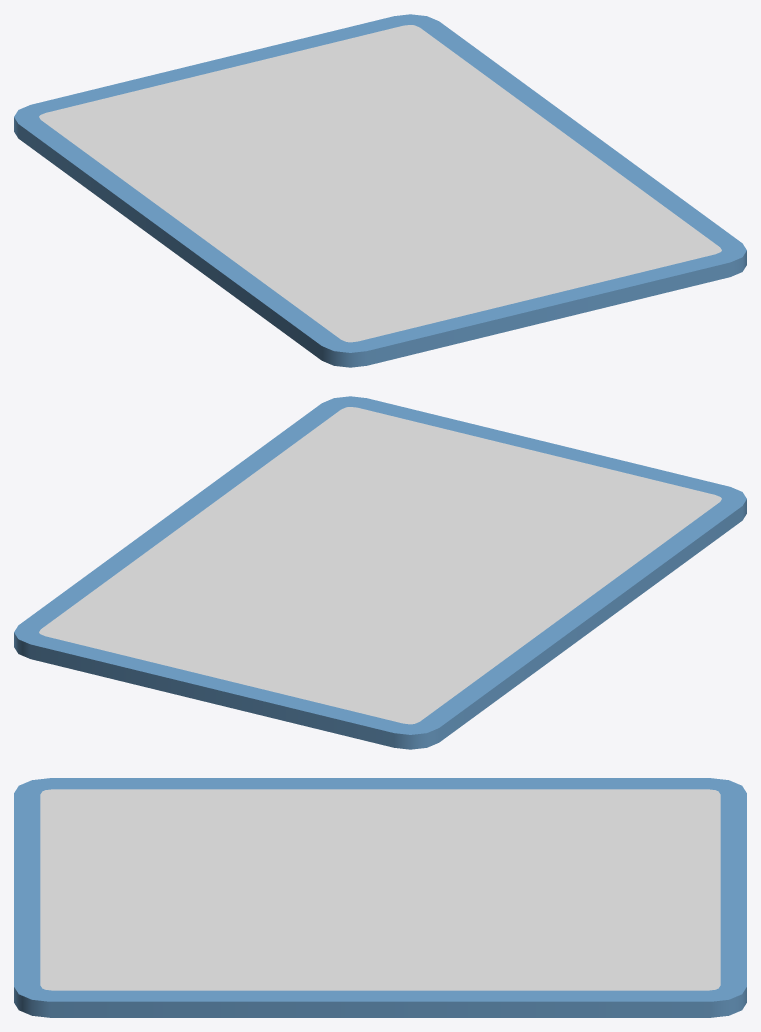
File: tablet.fbx
3 renders of one model, top to bottom at view 1: azimuth 30°, elevation 25°; view 2: azimuth 150°, elevation 25°; view 3: azimuth 270°, elevation 25°, orthographic. The views are drawn at different scales.
Parts seen in each view (by area): view 1: tablet_screen, tablet_base; view 2: tablet_screen, tablet_base; view 3: tablet_screen, tablet_base.
Part boxes in pixels (x1,y1,x2,y2): tablet_screen: (39, 25, 721, 342); tablet_base: (14, 14, 746, 367); tablet_screen: (39, 407, 721, 724); tablet_base: (14, 396, 746, 749); tablet_screen: (40, 789, 720, 990); tablet_base: (14, 778, 746, 1017).
Size of the model in its own units: 0.1795 by 0.2486 by 0.007.
